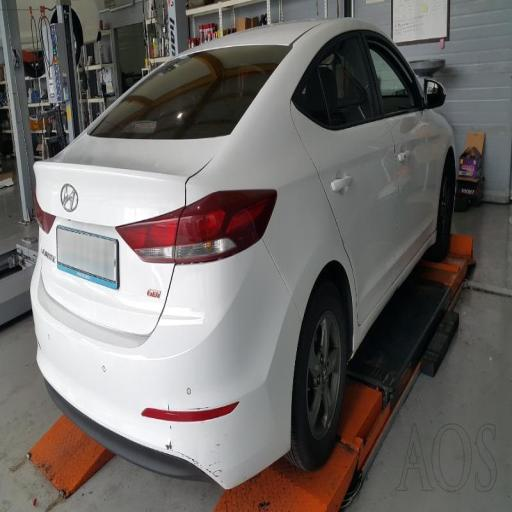scratch: (51, 330, 238, 488)
